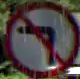Don't turn left: (6, 3, 79, 76)
